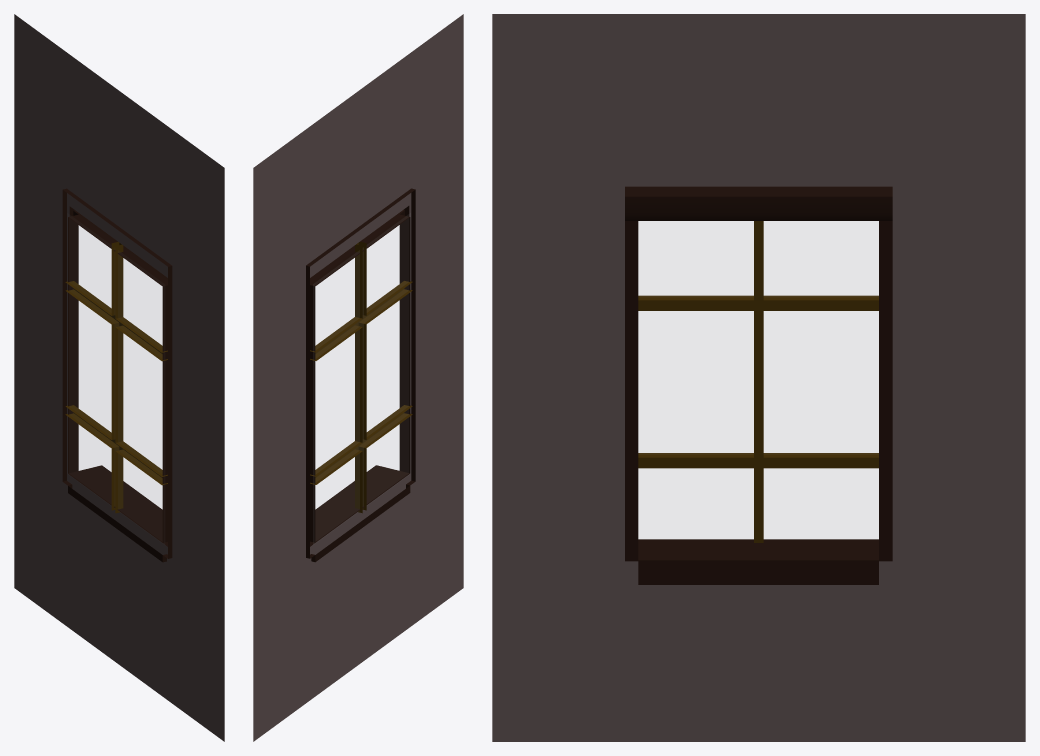
Rendered from Pared_Ventanal_01.fbx.
3 renders of one model, left to right at view 1: azimuth 30°, elevation 25°; view 2: azimuth 150°, elevation 25°; view 3: azimuth 270°, elevation 25°, orthographic. The views are drawn at different scales.
Parts seen in each view (by area): view 1: polySurface21, Ventanal, Barrote; view 2: polySurface21, Ventanal, Barrote; view 3: polySurface21, Ventanal, Barrote.
Boxes of the visible parts, x1,y1,x2,y2 form: polySurface21: [14, 14, 224, 741]; Ventanal: [62, 188, 172, 562]; Barrote: [65, 242, 167, 513]; polySurface21: [253, 14, 463, 741]; Ventanal: [306, 188, 415, 562]; Barrote: [310, 241, 412, 513]; polySurface21: [492, 14, 1025, 741]; Ventanal: [625, 186, 892, 584]; Barrote: [638, 221, 878, 542].
Size of the model in its own units: 1.18 by 18 by 11.95.
